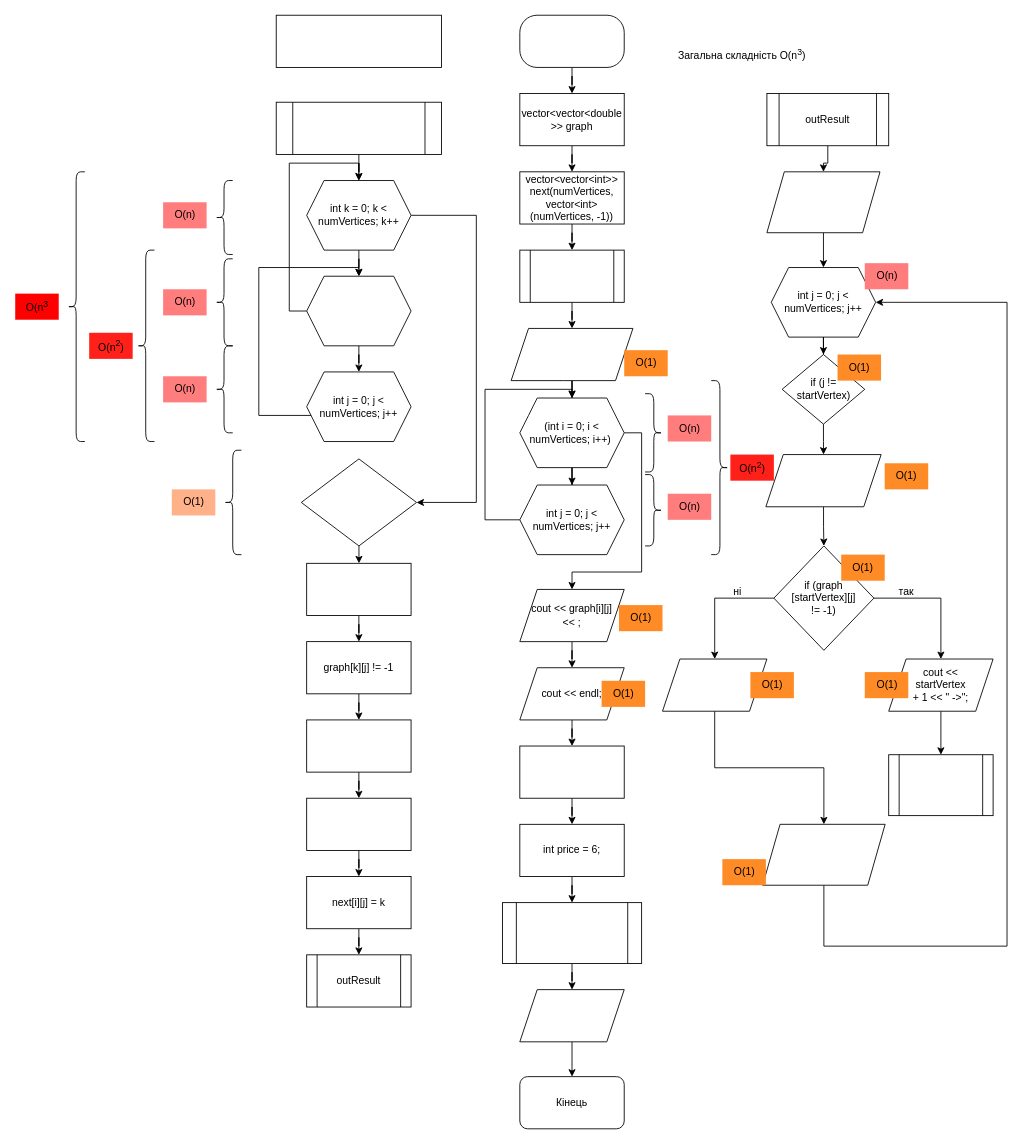
The diagram is 1029 pixels wide and 1144 high, and some of its shapes have lost their labels. The shapes that lost their labels are listed below. From the top down, each one's centre as x and y in pixels, then its label:
the point at 358,40: const int numVertices = 11
the point at 571,40: Початок
the point at 358,127: floydWarshall(vector<vector <double>>& graph, vector<vector<int>>& next)
the point at 823,202: cout << startVertex <<;
the point at 571,275: floydWarshall (graph, next)
the point at 358,310: int i = 0; i < numVertices; i++
the point at 571,354: cout << "Мінімальні відстані між вершинами:"
the point at 823,480: cout << startVertex + 1 << " -> " << j + 1 << ": ";
the point at 358,502: перевірка трьох умов if
the point at 358,589: graph[i][k] != -1
the point at 714,684: cout << "Немає шляху";
the point at 358,745: graph[i][j] == -1 || graph[i][k] + graph[k][j] < graph[i][j]
the point at 571,771: int startVertex = 6;
the point at 940,785: printPath
the point at 358,823: graph[i][j] = graph[i][k] + graph[k][j]
the point at 823,854: cout << graph [startVertex][j] << graph[startVertex][j] * price;
the point at 572,933: outResult(startVertex, graph, next, price);
the point at 571,1015: return 0;
